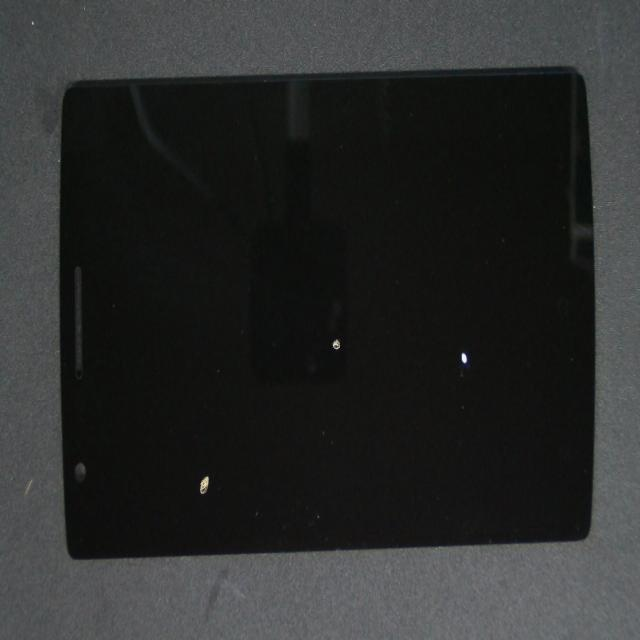stain: (239, 157, 640, 503), (182, 159, 502, 489), (123, 219, 326, 640)
